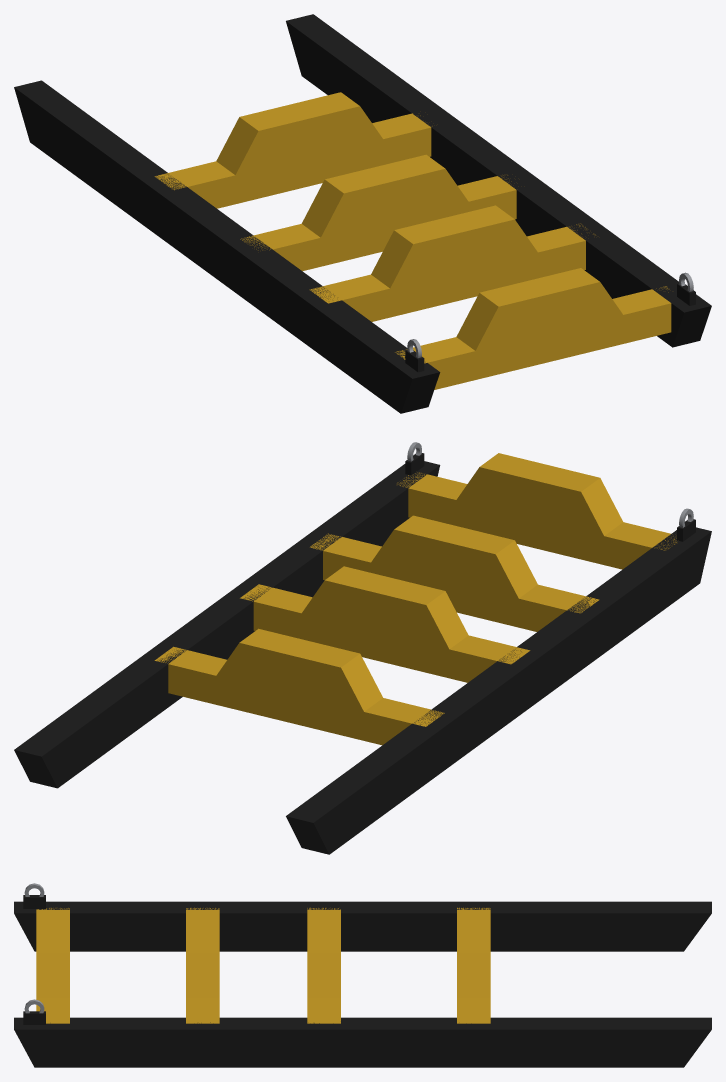
The model's file is md40_cradle.obj.
The picture shows the model from 3 angles, top to bottom: view 1: azimuth 30°, elevation 25°; view 2: azimuth 150°, elevation 25°; view 3: azimuth 270°, elevation 25°; orthographic projection. The views are drawn at different scales.
Parts seen in each view (by area): view 1: md40_cradle; view 2: md40_cradle; view 3: md40_cradle.
Boxes of the visible parts, left/top/right/bottom form: md40_cradle: left=14, top=14, right=711, bottom=413; md40_cradle: left=14, top=442, right=711, bottom=854; md40_cradle: left=14, top=883, right=711, bottom=1067.
Size of the model in its own units: 3.24 by 0.85 by 7.47.
